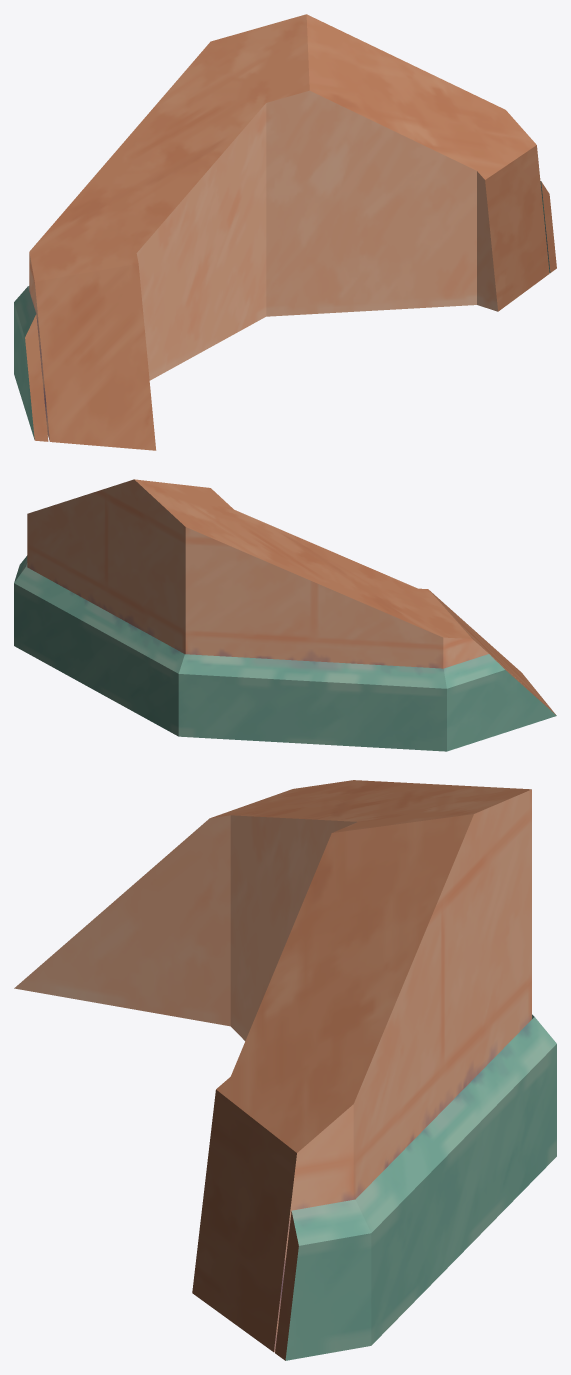
The model's file is well_s03.fbx.
3 views of the same model, one above another, from view 1: azimuth 30°, elevation 25°; view 2: azimuth 150°, elevation 25°; view 3: azimuth 270°, elevation 25° (orthographic). The views are drawn at different scales.
Visible parts, largest first — view 1: well_s03; view 2: well_s03; view 3: well_s03.
Boxes of the visible parts, bbox=[...] form: well_s03: bbox=[14, 14, 556, 450]; well_s03: bbox=[14, 479, 556, 751]; well_s03: bbox=[14, 780, 556, 1360].
Size of the model in its own units: 4.13 by 1.78 by 2.18.
